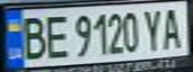0: (121, 8, 142, 53)
1: (90, 10, 109, 56)
2: (106, 9, 127, 55)
9: (69, 10, 93, 58)
A: (160, 4, 187, 51)
B: (15, 12, 51, 61)
E: (39, 11, 72, 61)
Y: (139, 7, 166, 52)
